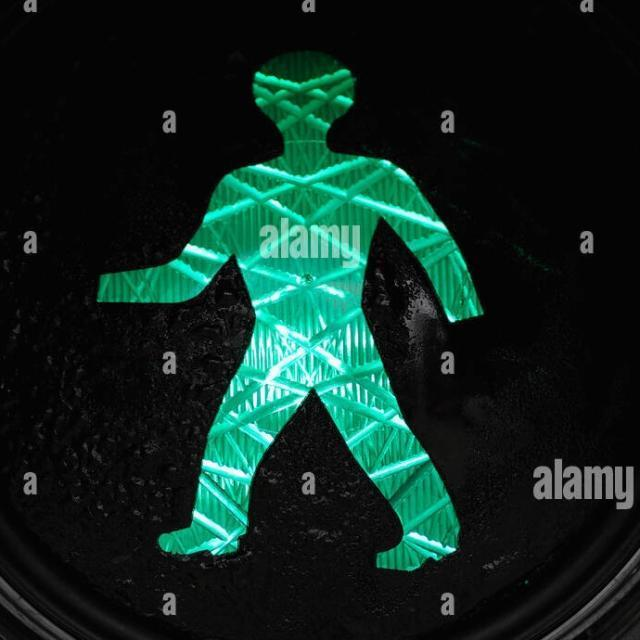geen-crossing: (82, 29, 522, 579)
